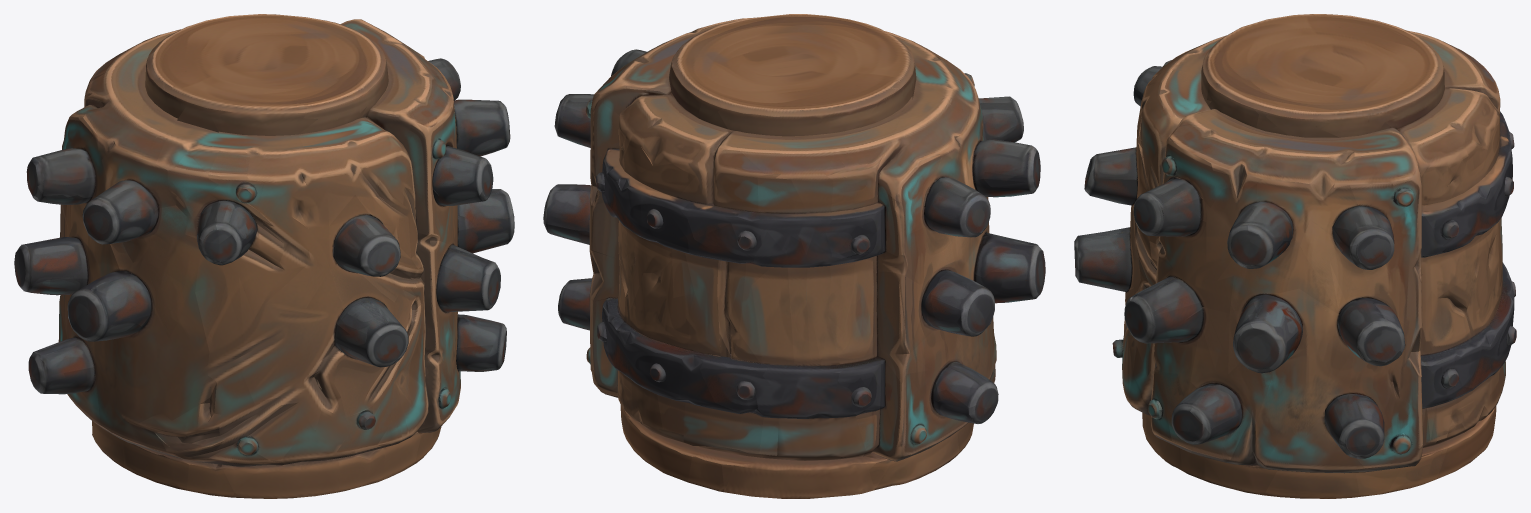
Rendered from 07_spike_drum.glb.
The picture shows the model from 3 angles, left to right: view 1: azimuth 30°, elevation 25°; view 2: azimuth 150°, elevation 25°; view 3: azimuth 270°, elevation 25°; orthographic projection.
Parts seen in each view (by area): view 1: output_unwrapped; view 2: output_unwrapped; view 3: output_unwrapped.
Part boxes in pixels (x1,y1,x2,y2): output_unwrapped: (14, 14, 514, 498); output_unwrapped: (543, 14, 1045, 498); output_unwrapped: (1074, 14, 1516, 498).
Size of the model in its own units: 1.9 by 1.51 by 1.66.
Materials: 1 (1 with a texture image).
